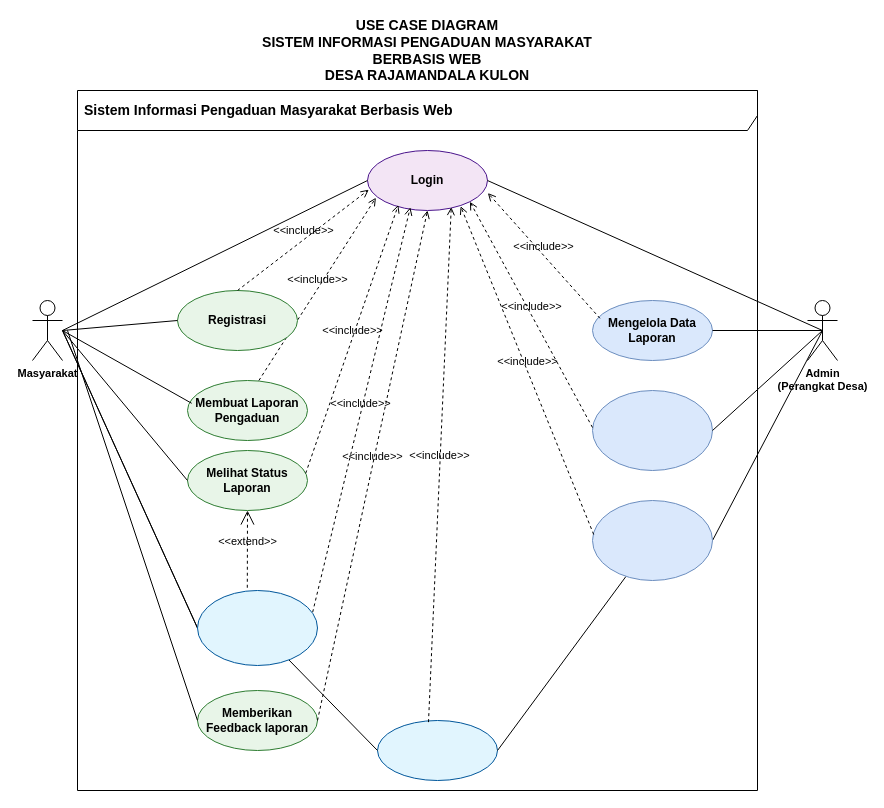
The diagram is 884 pixels wide and 808 high, and some of its shapes have lost their labels. The shapes that lost their labels are listed below. From the top down, each one's centre as x and y in pixels, then its label:
At point 652,430: "Mengelola Data Kategori".
At point 652,540: "Mengelola Data Masyarakat".
At point 257,628: "Menerima Notifikasi Status Laporan".
At point 437,750: "Logout".
